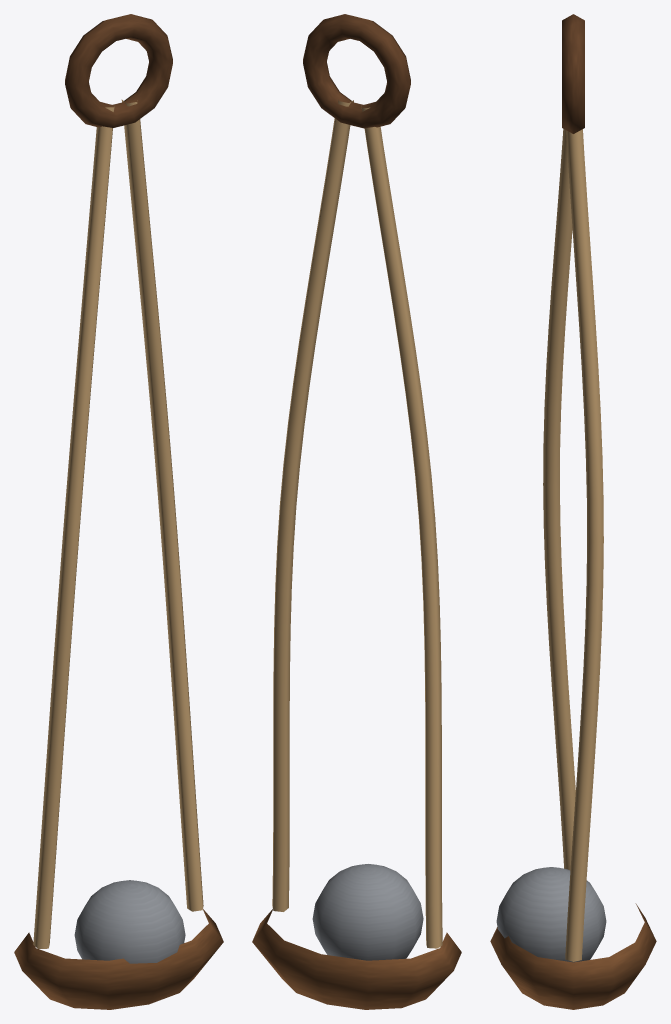
File: sling.glb
3 views of the same model, side by side, from view 1: azimuth 30°, elevation 25°; view 2: azimuth 150°, elevation 25°; view 3: azimuth 270°, elevation 25° (orthographic).
Visible parts, largest first — view 1: sling; view 2: sling; view 3: sling.
Boxes of the visible parts, x1=… form: sling: x1=14, y1=14, x2=223, y2=1009; sling: x1=252, y1=14, x2=461, y2=1009; sling: x1=490, y1=14, x2=656, y2=1009.
Size of the model in its own units: 0.1008 by 0.4863 by 0.0756.
4 materials, 3 textured.
